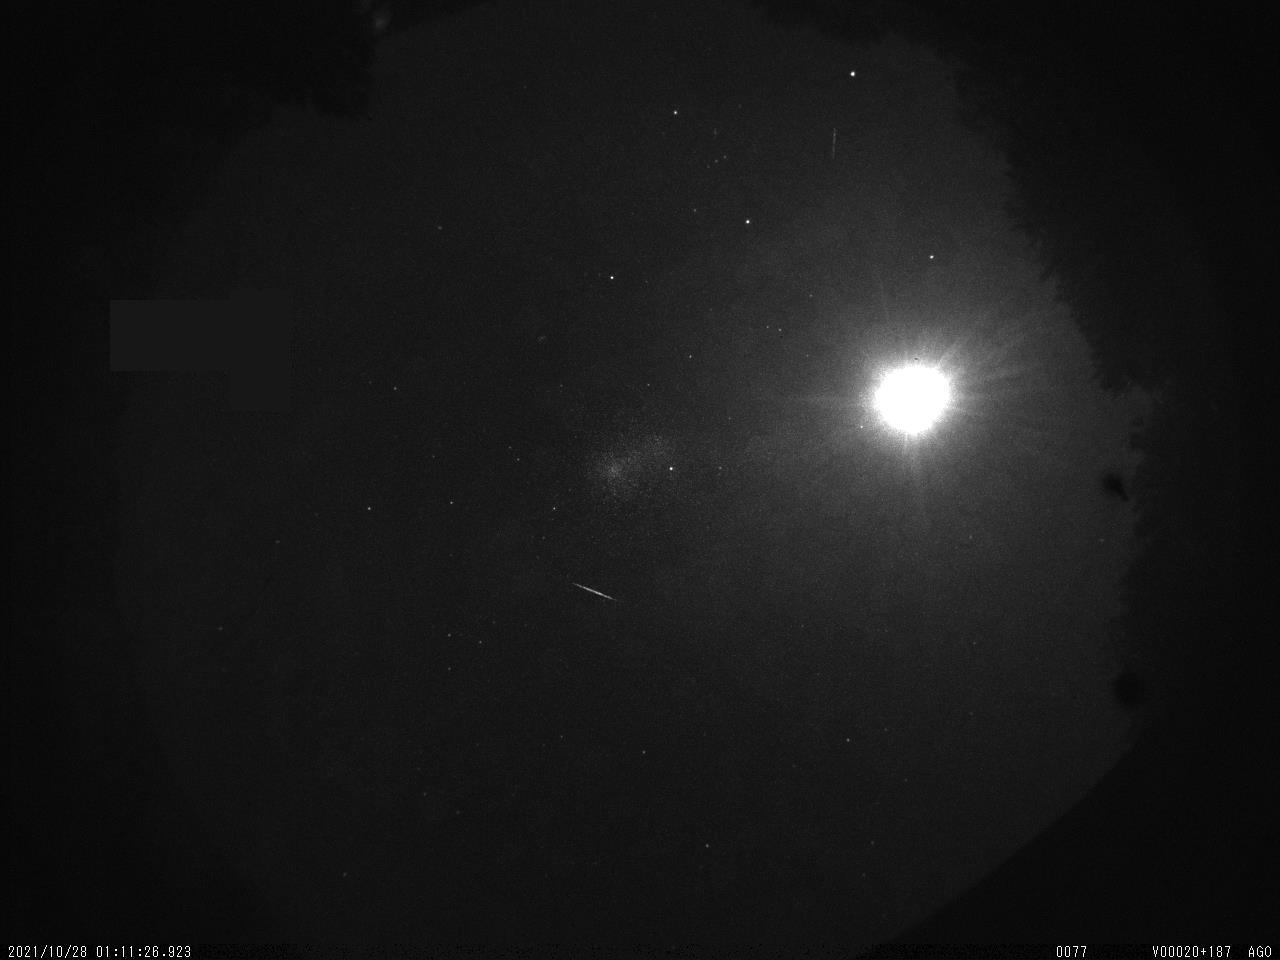meteor: (556, 569, 644, 618)
